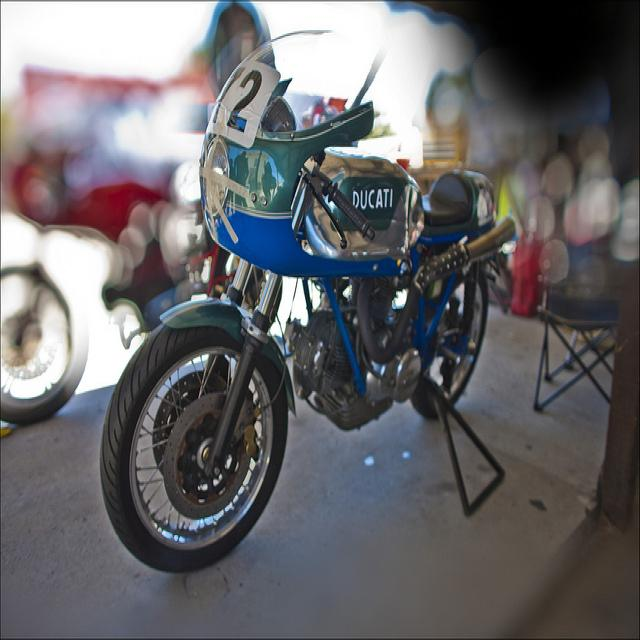motor: (94, 27, 514, 583), (0, 208, 146, 423)
